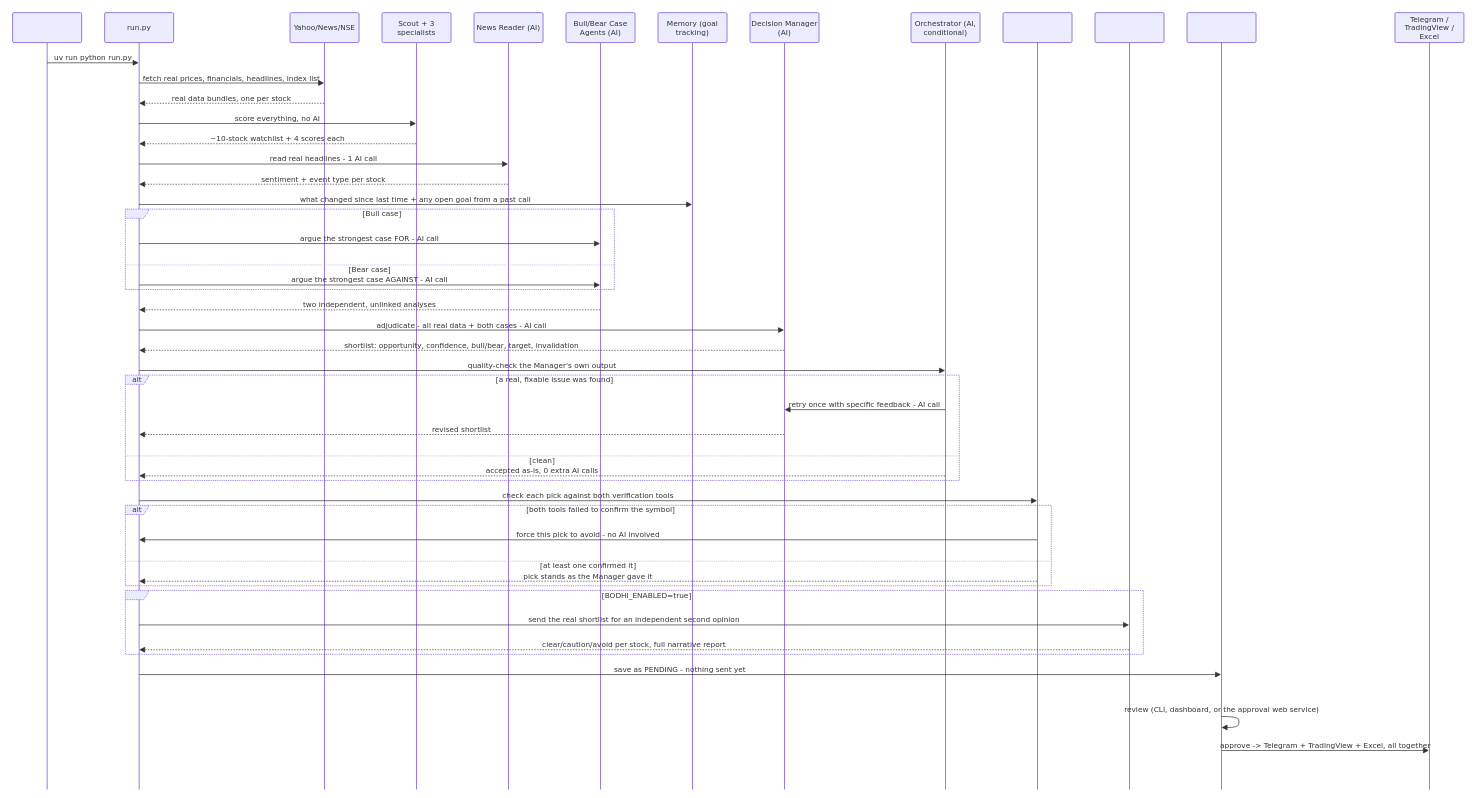
This 1472x798 diagram has some shape labels left out. The box of each missing label's shape, as (x1, y1, x2, y2) in pixels:
Bodhi Gate (optional): (1094, 12, 1164, 790)
Human approval: (1186, 12, 1256, 790)
opt: (125, 590, 1144, 655)
par: (125, 208, 615, 290)
Reliability Guardrail: (1002, 12, 1072, 790)
You: (12, 12, 82, 790)
